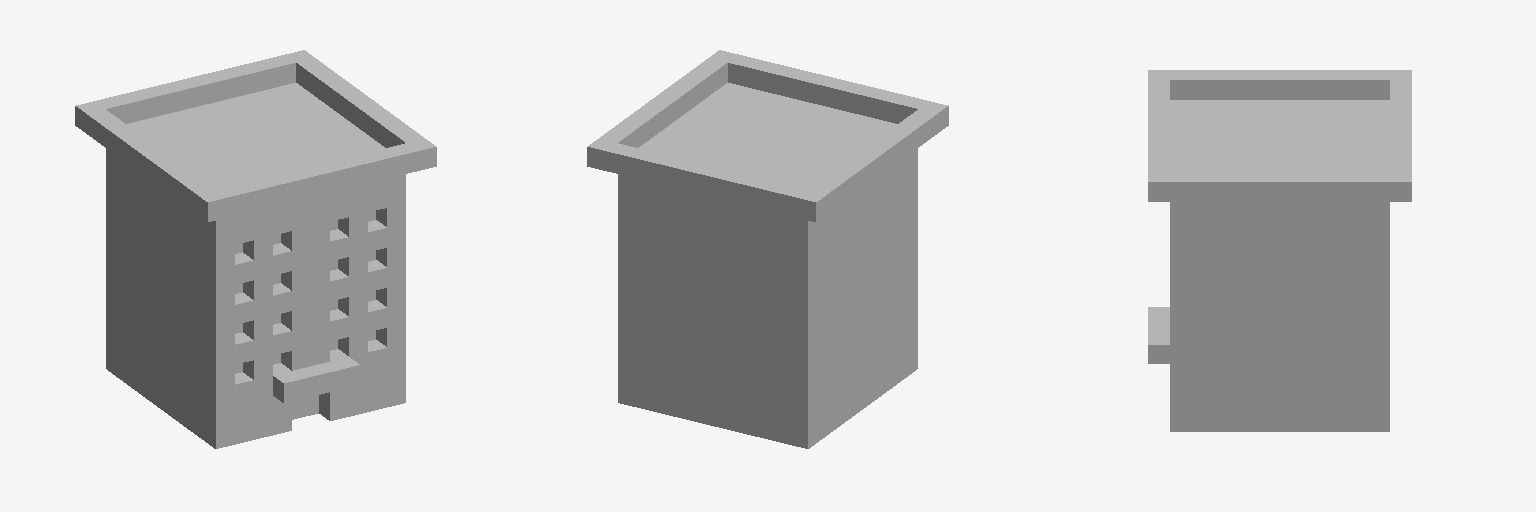
File: lowPolyBuilding.obj
The picture shows the model from 3 angles: view 1: azimuth 30°, elevation 25°; view 2: azimuth 150°, elevation 25°; view 3: azimuth 270°, elevation 25°; orthographic projection.
Parts seen in each view (by area): view 1: object 1; view 2: object 1; view 3: object 1.
Boxes of the visible parts, x1,y1,x2,y2 form: object 1: [75, 50, 436, 448]; object 1: [587, 50, 948, 448]; object 1: [1148, 70, 1411, 431].
Size of the model in its own units: 1.2 by 1.3 by 1.2.